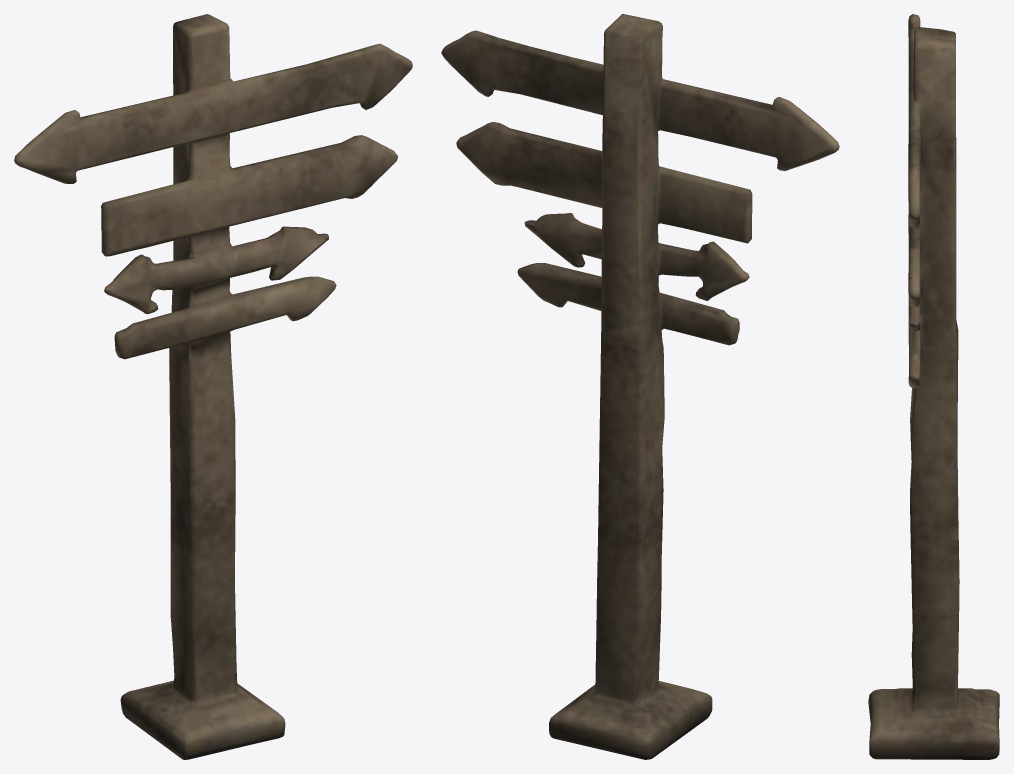
File: weathered-wood-signpost-v001.glb
3 renders of one model, left to right at view 1: azimuth 30°, elevation 25°; view 2: azimuth 150°, elevation 25°; view 3: azimuth 270°, elevation 25°, orthographic.
Visible parts, largest first — view 1: weathered-wood-signpost; view 2: weathered-wood-signpost; view 3: weathered-wood-signpost.
Part boxes in pixels (left/top/right/bottom): weathered-wood-signpost: left=14, top=14, right=412, bottom=759; weathered-wood-signpost: left=441, top=14, right=839, bottom=759; weathered-wood-signpost: left=868, top=14, right=999, bottom=759.
Size of the model in its own units: 1.11 by 1.89 by 0.3211.
Materials: 1 (1 with a texture image).
